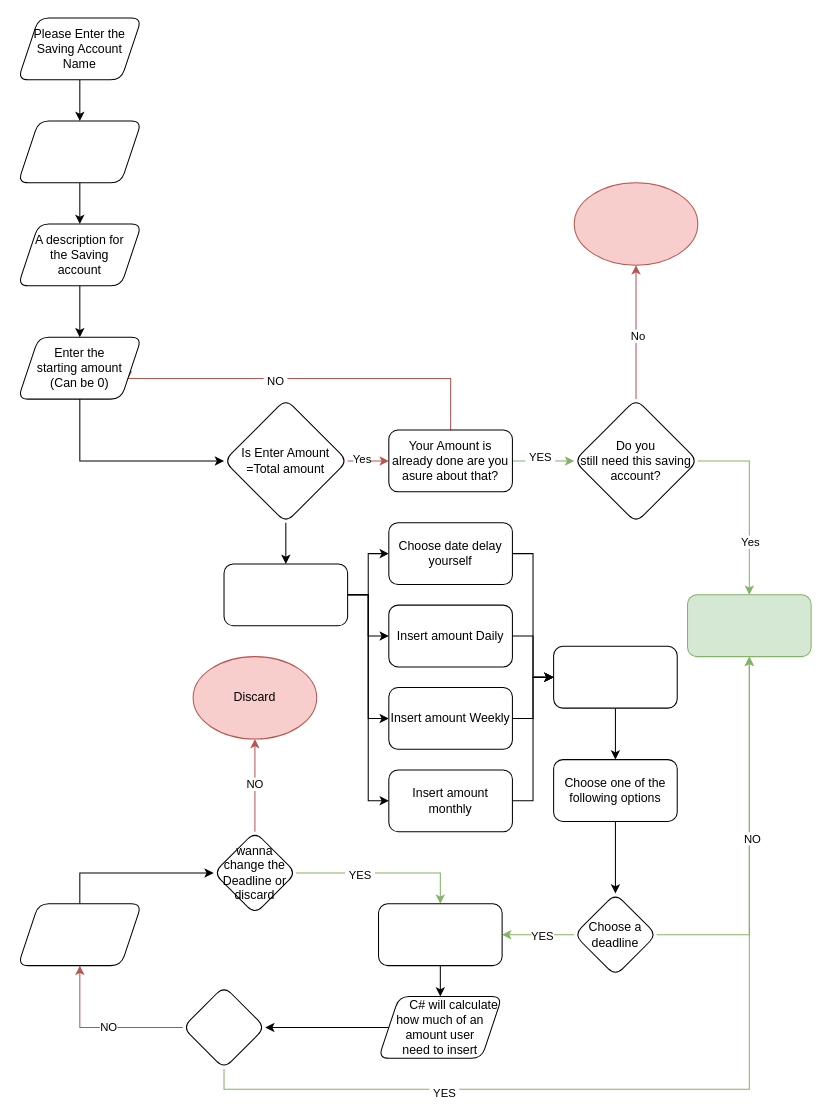
The diagram is 829 pixels wide and 1118 high, and some of its shapes have lost their labels. Here are the shapes that lost their labels. From the top down, the centre of each, then its label:
point (79, 151): Please entre the total amount
point (635, 223): End
point (285, 594): Choose an option
point (748, 625): Saved
point (615, 676): Choose an amount
point (79, 934): Sorry your amount is out of range
point (439, 934): Deadline
point (223, 1027): Is amount still in range
